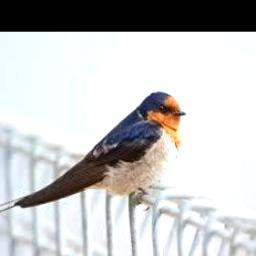Swallow: (0, 91, 186, 214)
